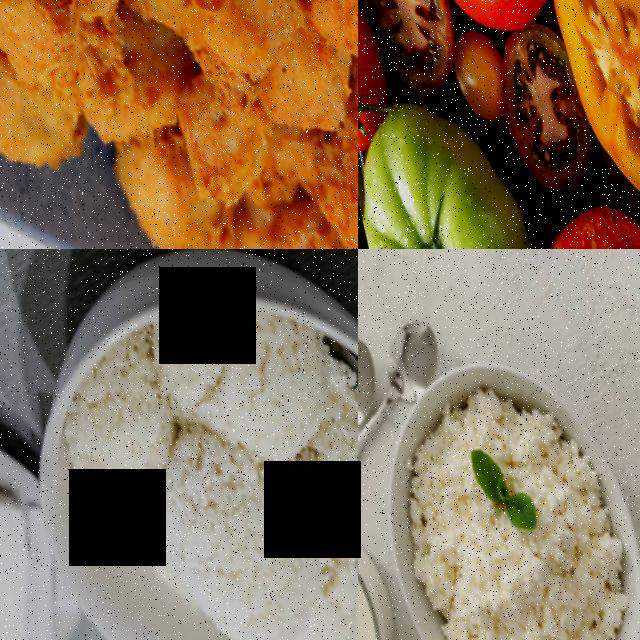tomato: (524, 0, 640, 231), (484, 14, 596, 201)
white rice: (132, 399, 338, 640), (147, 288, 348, 476), (434, 511, 602, 640), (63, 388, 193, 538), (515, 389, 606, 540), (401, 416, 483, 544)
